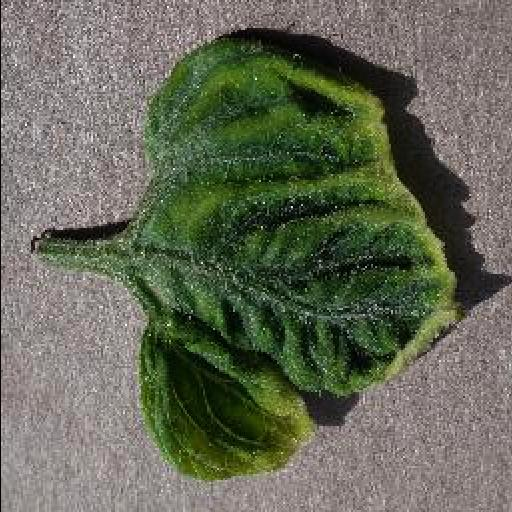disease_tomato: (136, 34, 460, 484)
